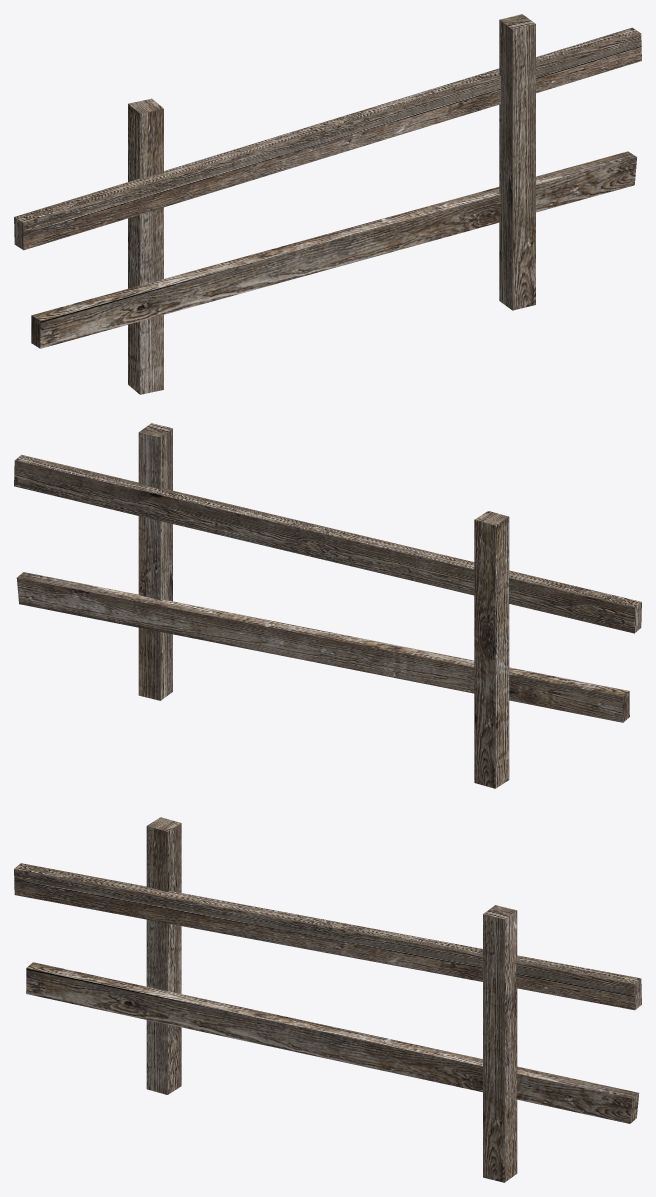
The model's file is fence_section.FBX.
The picture shows the model from 3 angles, top to bottom: view 1: azimuth 30°, elevation 25°; view 2: azimuth 150°, elevation 25°; view 3: azimuth 330°, elevation 25°; orthographic projection. The views are drawn at different scales.
Parts seen in each view (by area): view 1: fence_section; view 2: fence_section; view 3: fence_section.
Part boxes in pixels (x1,y1,x2,y2): fence_section: [14, 14, 641, 394]; fence_section: [14, 423, 641, 788]; fence_section: [14, 817, 641, 1182].
Bounding box in the file's own units: 29.89 × 12.51 × 2.69.
1 material, 1 textured.
